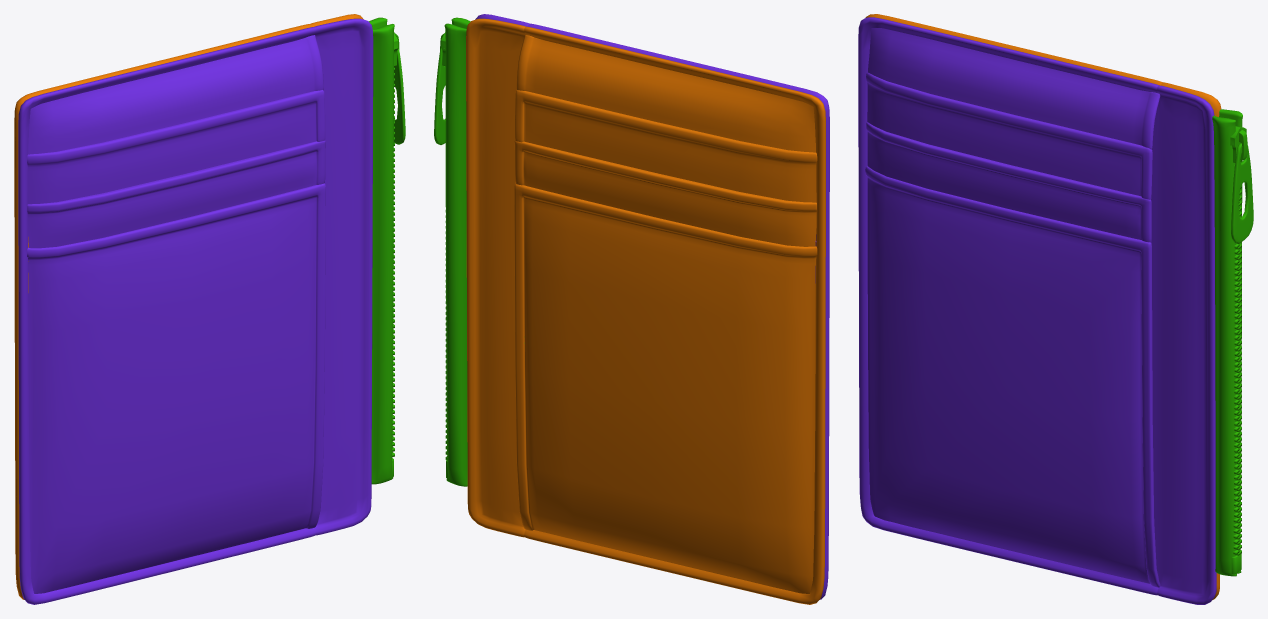
Rendered from Wallet.fbx.
The picture shows the model from 3 angles, left to right: view 1: azimuth 30°, elevation 25°; view 2: azimuth 150°, elevation 25°; view 3: azimuth 330°, elevation 25°; orthographic projection.
Visible parts, largest first — view 1: Back; view 2: Back; view 3: Back.
Part boxes in pixels (x1,y1,x2,y2): Back: [14, 14, 405, 604]; Back: [434, 14, 829, 604]; Back: [858, 14, 1253, 604].
Size of the model in its own units: 176 by 223 by 23.81.
